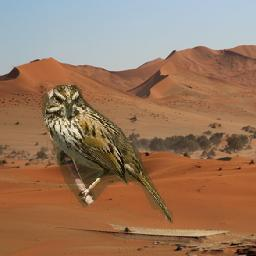Sparrow: (43, 86, 174, 225)
